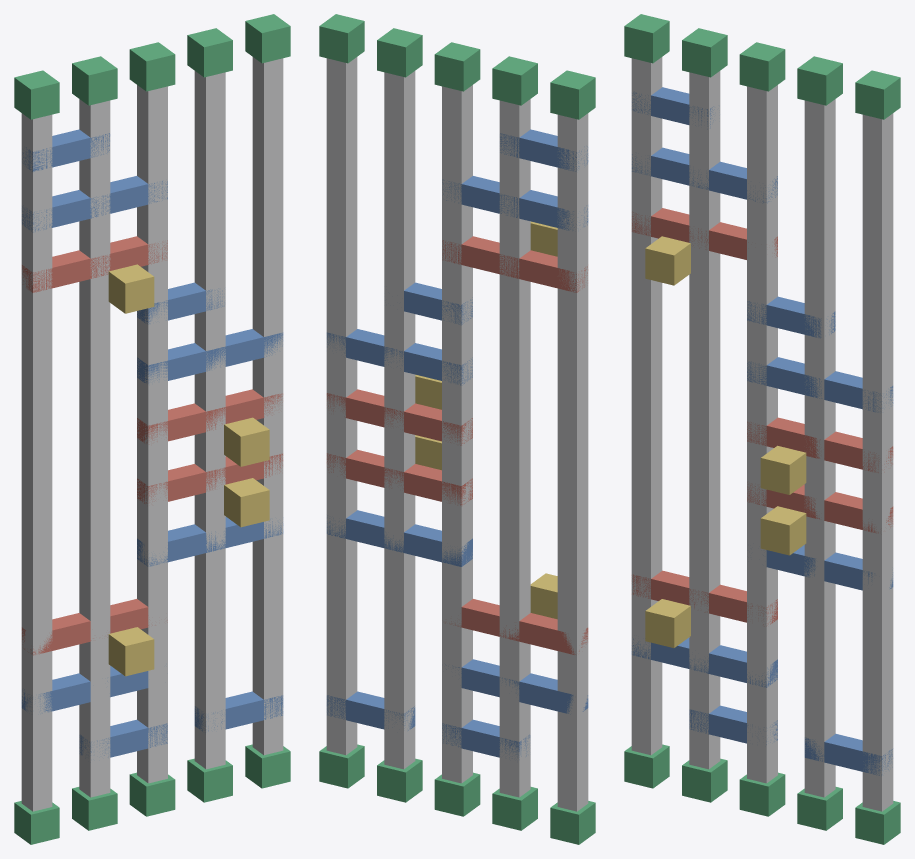
File: ls_adder2.glb
The picture shows the model from 3 angles, left to right: view 1: azimuth 30°, elevation 25°; view 2: azimuth 150°, elevation 25°; view 3: azimuth 330°, elevation 25°; orthographic projection.
Parts seen in each view (by area): view 1: world; view 2: world; view 3: world.
Boxes of the visible parts, x1,y1,x2,y2 form: world: (14, 14, 290, 844); world: (319, 14, 595, 844); world: (624, 14, 900, 844).
Bounding box in the file's own units: 4.5 × 12.5 × 1.6.
